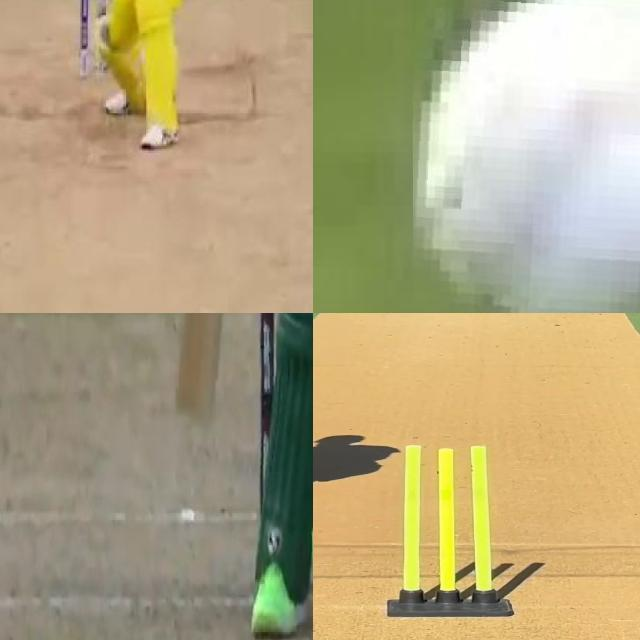Cricket ball: (413, 0, 640, 313)
Stumps: (389, 443, 512, 618)
